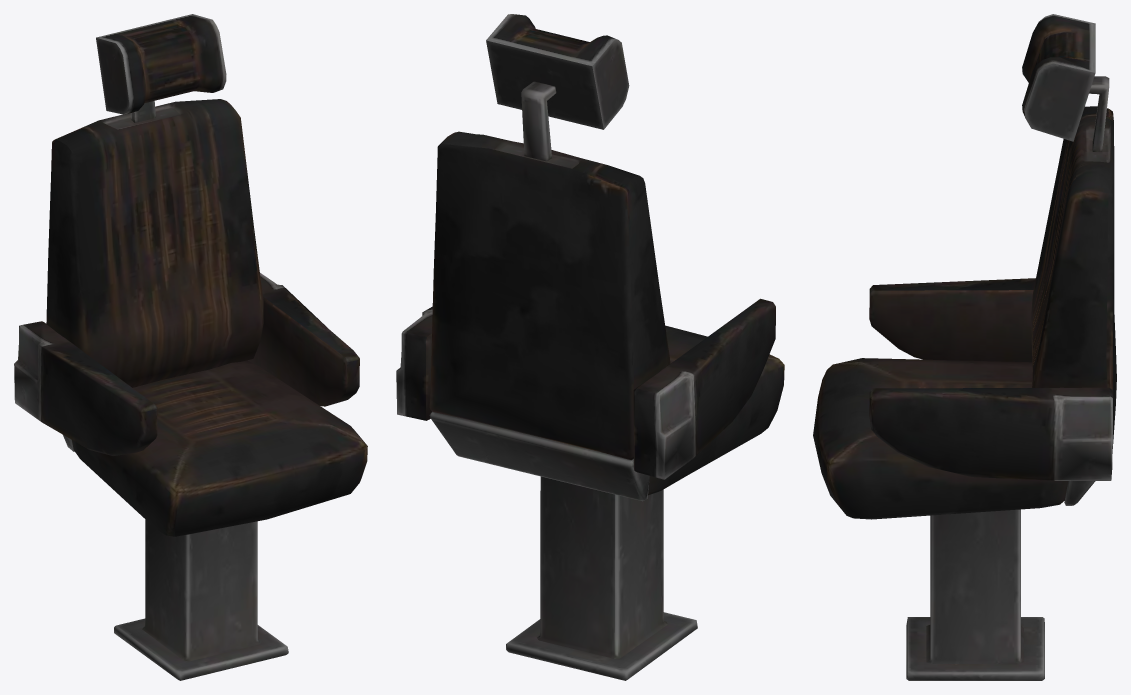
Rendered from controlchair.glb.
The picture shows the model from 3 angles, left to right: view 1: azimuth 30°, elevation 25°; view 2: azimuth 150°, elevation 25°; view 3: azimuth 270°, elevation 25°; orthographic projection. The views are drawn at different scales.
Parts seen in each view (by area): view 1: ControlChair; view 2: ControlChair; view 3: ControlChair.
Boxes of the visible parts, box(x1,y1,x2,y2) form: ControlChair: box(14, 14, 367, 680); ControlChair: box(396, 14, 784, 680); ControlChair: box(813, 14, 1116, 680).
Size of the model in its own units: 0.5366 by 1.22 by 0.547.
Materials: 1 (1 with a texture image).
